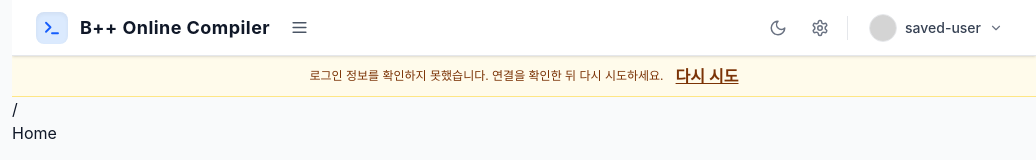
it: Header authentication refresh › keeps a saved session after a transient error and lets the user retry
Expected: the message shows "로그인 정보를 확인하지 못했습니다", [310, 68, 664, 83]
Expected: the text "saved-user" is shown, [905, 18, 981, 38]
Click the button "다시 시도".
click(707, 76)  # box [676, 64, 738, 88]
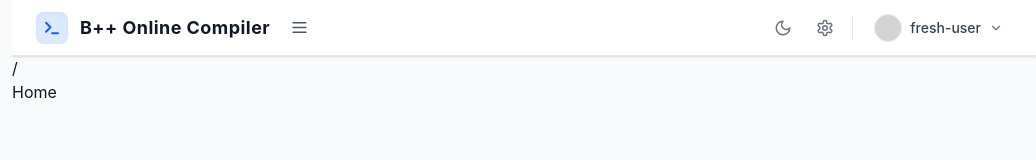
Now the message "로그인 정보를 확인하지 못했습니다. 연결을 확인한 뒤 다시 시도하세요. 다시 시도" is gone
Now the text "fresh-user" is shown, box [910, 18, 981, 38]
